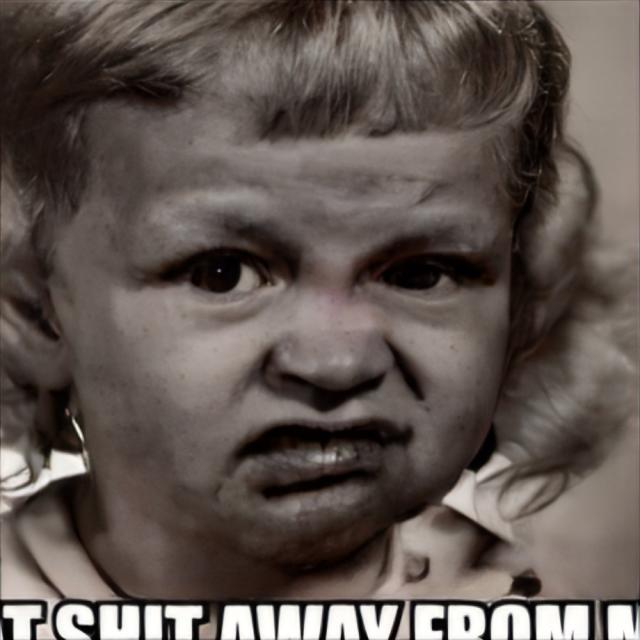disgust: (77, 45, 516, 562)
